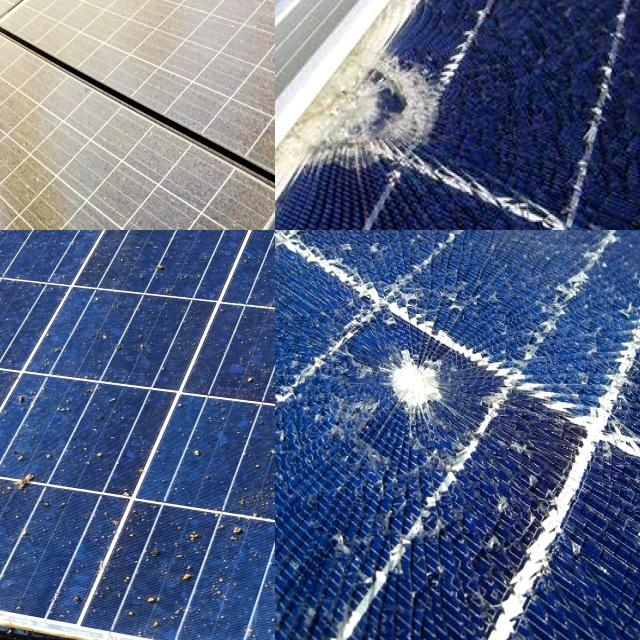bird: (83, 230, 196, 267), (0, 449, 59, 515), (0, 302, 44, 360)
dust: (0, 141, 170, 230), (117, 0, 275, 79), (0, 8, 80, 116)
hotspot: (309, 0, 472, 208), (370, 322, 476, 450)
